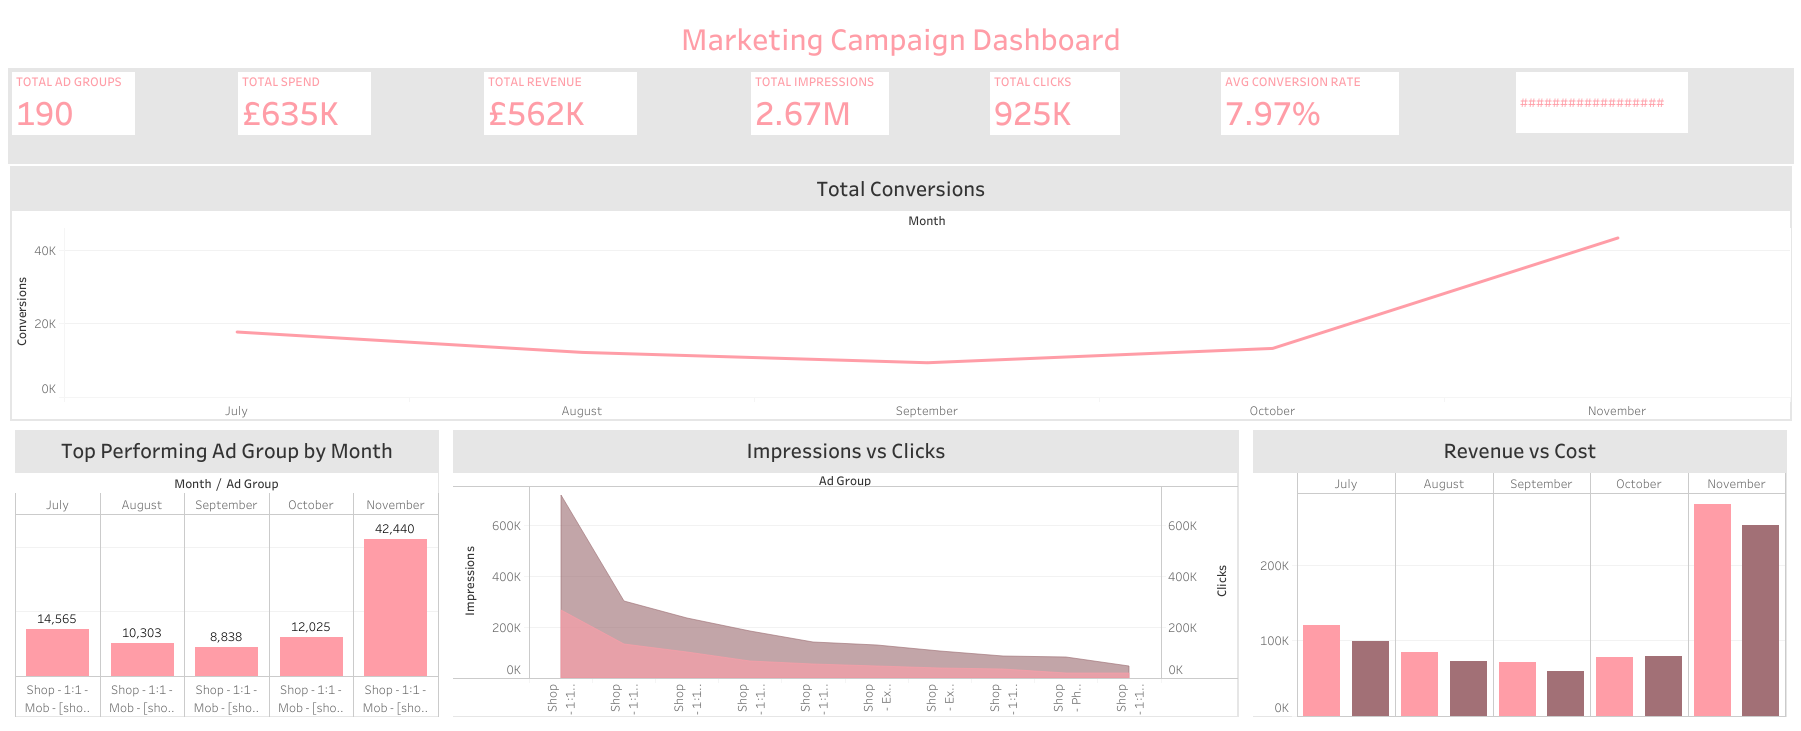

The page's visual inventory and layout, read from the dashboard file:
{"tool":"tableau","page":{"name":"Dashboard 1","canvas":[1000,1000],"units":"permille","ordinal":0},"visuals":[{"type":"text","box":[6,14.2,988.1,81.7]},{"type":"worksheet","title":"Total Ads","mark":"Automatic","box":[6,95.9,124.9,122.3]},{"type":"worksheet","title":"Spend","mark":"Automatic","box":[130.9,95.9,136.2,122.3]},{"type":"worksheet","title":"Revenue","mark":"Automatic","box":[267.1,95.9,147.5,122.3]},{"type":"worksheet","title":"Impressions","mark":"Automatic","box":[414.6,95.9,132.5,122.3]},{"type":"worksheet","title":"Clicks","mark":"Automatic","box":[547,95.9,127.6,122.3]},{"type":"worksheet","title":"Conversion","mark":"Automatic","box":[674.6,95.9,163.4,122.3]},{"type":"worksheet","title":"P VS L","mark":"Automatic","box":[838.1,95.9,156,120.6]},{"type":"worksheet","title":"Sheet 12","mark":"Line","rows":["Conversions"],"cols":["Month"],"box":[6,225.6,988.1,351.7]},{"type":"worksheet","title":"Sheet 10","mark":"Automatic","rows":["Revenue"],"cols":["Month","Ad Group"],"box":[6,577.3,326.9,408.6]},{"type":"worksheet","title":"Sheet 13","mark":"Area","rows":["Impressions","Clicks"],"cols":["Ad Group"],"box":[332.8,577.3,358.2,408.6]},{"type":"worksheet","title":"Sheet 11","mark":"Automatic","cols":["Month"],"box":[691,577.3,303,408.6]}]}

Visuals, with their boxes on the dashboard's canvas, which has no fixed pixel size, in thousandths of its width and height (x1, y1, x2, y2). These are canvas units, not pixel positions in the 1801x731 screenshot, which may show the page scaled, cropped or inside an application window:
text: [6,14,994,96]
"Total Ads" worksheet: [6,96,131,218]
"Spend" worksheet: [131,96,267,218]
"Revenue" worksheet: [267,96,415,218]
"Impressions" worksheet: [415,96,547,218]
"Clicks" worksheet: [547,96,675,218]
"Conversion" worksheet: [675,96,838,218]
"P VS L" worksheet: [838,96,994,216]
"Sheet 12" worksheet (Line marks): [6,226,994,577]
"Sheet 10" worksheet: [6,577,333,986]
"Sheet 13" worksheet (Area marks): [333,577,691,986]
"Sheet 11" worksheet: [691,577,994,986]
